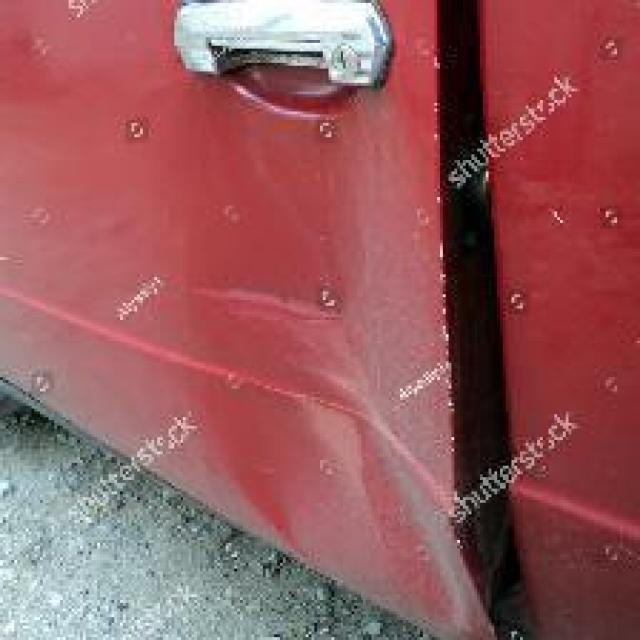damaged: (171, 92, 460, 638)
